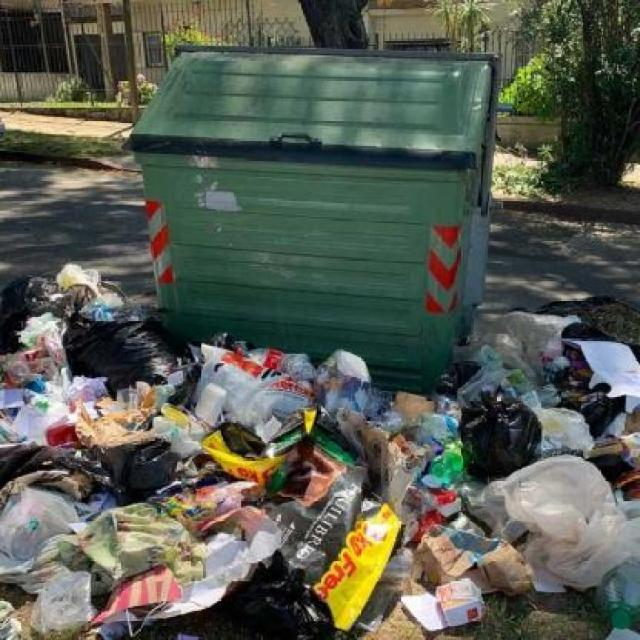garbage: (0, 269, 624, 639)
